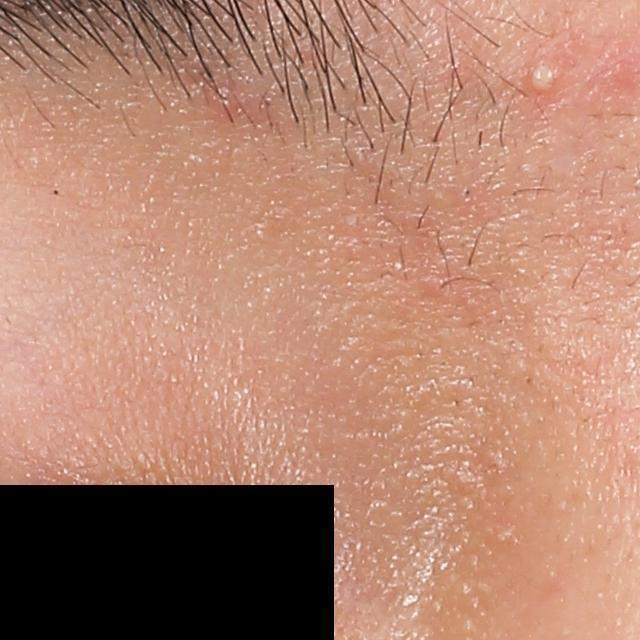pustule: (521, 52, 562, 102)
